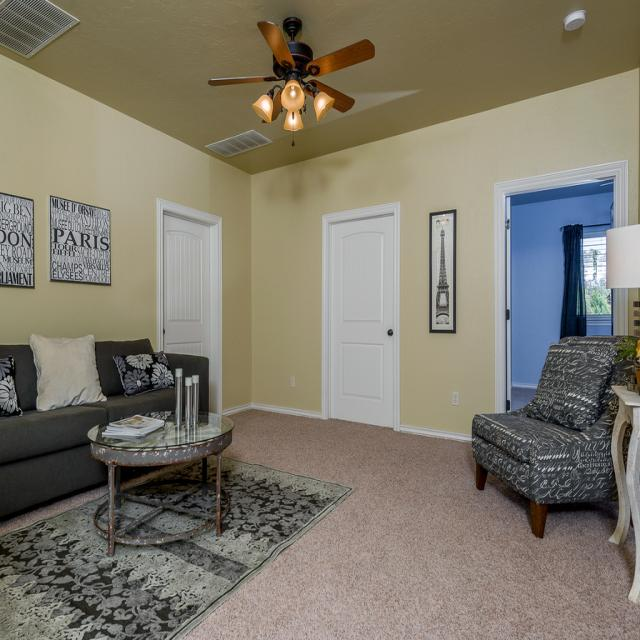Bulb: (205, 19, 375, 148)
